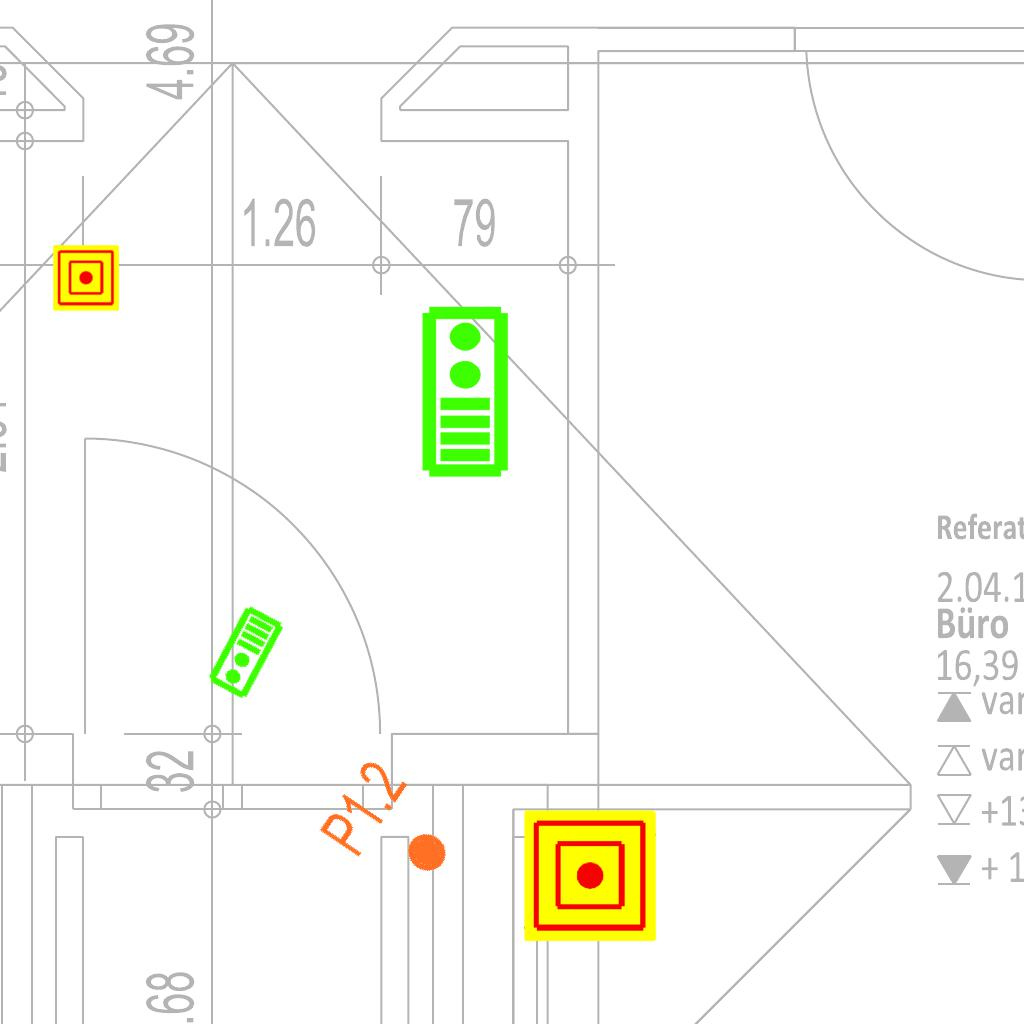Downlight_LED_Einbauleuchten_Flur: (314, 753, 473, 903)
Gegensprechanlage_mit_Video: (416, 303, 511, 479), (205, 603, 288, 703)
NAM-Nichtautomatischer_Melder: (524, 810, 656, 942), (53, 245, 119, 311)
